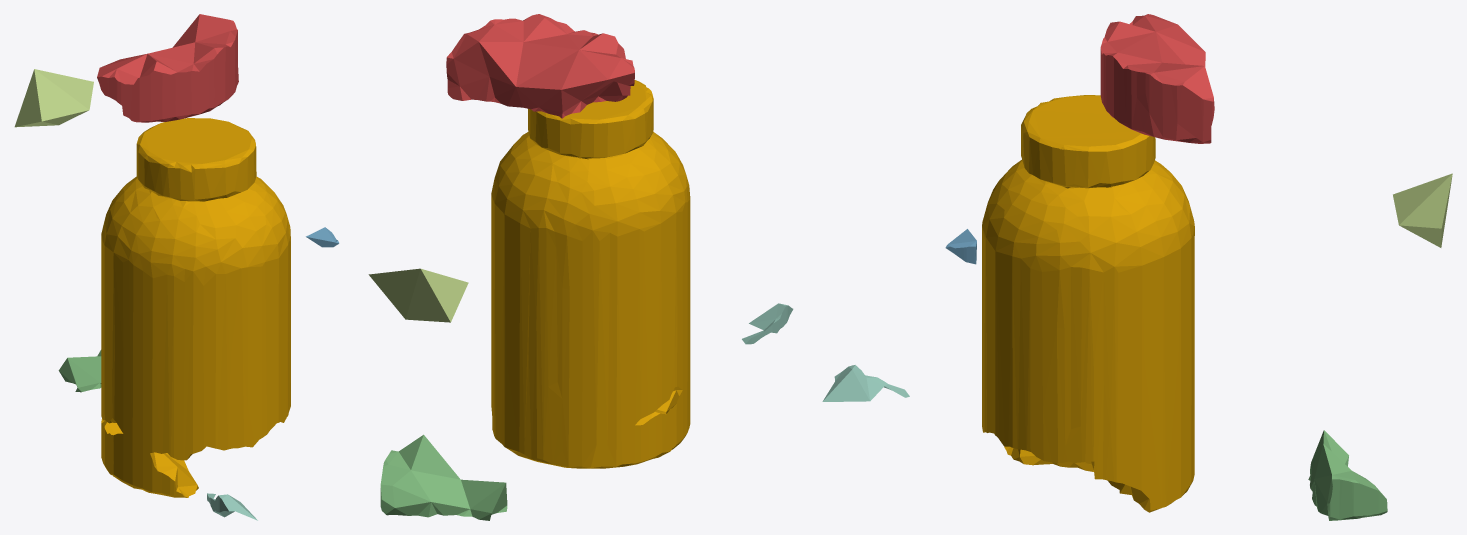
File: fractured_53_6pcs_transformed.glb
3 views of the same model, side by side, from view 1: azimuth 30°, elevation 25°; view 2: azimuth 150°, elevation 25°; view 3: azimuth 270°, elevation 25° (orthographic). The views are drawn at different scales.
Visible parts, largest first — view 1: piece_0.obj, piece_1.obj, piece_5.obj, piece_3.obj, piece_4.obj, piece_2.obj; view 2: piece_0.obj, piece_1.obj, piece_3.obj, piece_5.obj, piece_4.obj; view 3: piece_0.obj, piece_1.obj, piece_3.obj, piece_5.obj, piece_4.obj.
Part boxes in pixels (bbox=[...]): piece_0.obj: bbox=[101, 118, 290, 497]; piece_1.obj: bbox=[97, 14, 238, 122]; piece_5.obj: bbox=[14, 69, 93, 127]; piece_3.obj: bbox=[58, 350, 101, 392]; piece_4.obj: bbox=[207, 493, 257, 520]; piece_2.obj: bbox=[306, 227, 339, 247]; piece_0.obj: bbox=[491, 80, 690, 468]; piece_1.obj: bbox=[446, 14, 634, 118]; piece_3.obj: bbox=[380, 434, 507, 520]; piece_5.obj: bbox=[368, 268, 468, 322]; piece_4.obj: bbox=[742, 303, 793, 344]; piece_0.obj: bbox=[982, 95, 1194, 512]; piece_1.obj: bbox=[1100, 14, 1214, 143]; piece_3.obj: bbox=[1308, 430, 1387, 520]; piece_5.obj: bbox=[1393, 173, 1452, 247]; piece_4.obj: bbox=[822, 365, 909, 401].
Size of the model in its own units: 0.5393 by 1.24 by 1.6.
